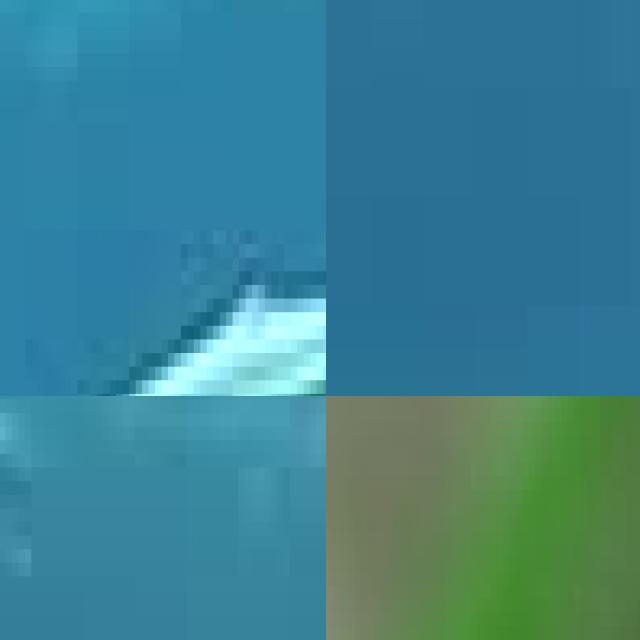fish: (0, 12, 326, 396)
